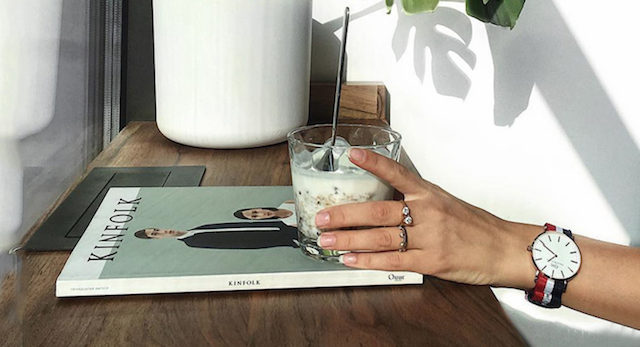books: (64, 171, 428, 307)
watch: (514, 204, 595, 326)
